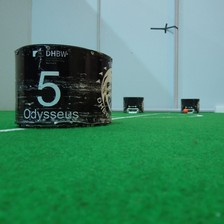ball: (182, 106, 189, 113)
robot: (9, 41, 114, 132), (120, 95, 145, 116), (178, 96, 199, 114)
